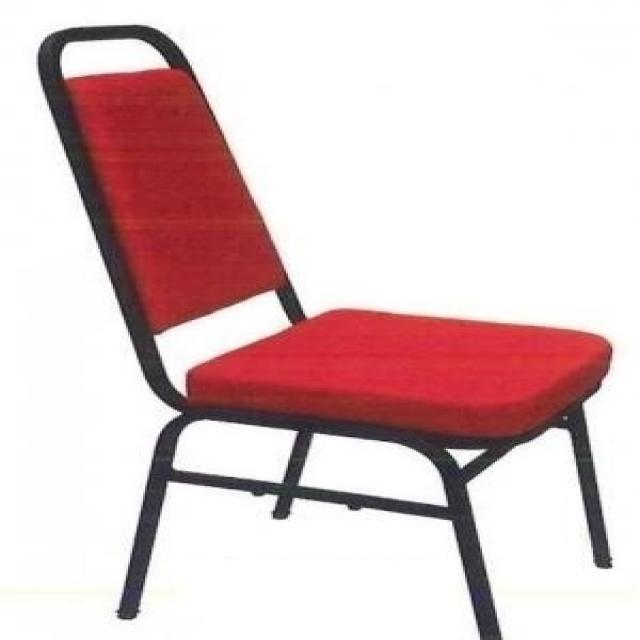chair: (36, 23, 620, 640)
